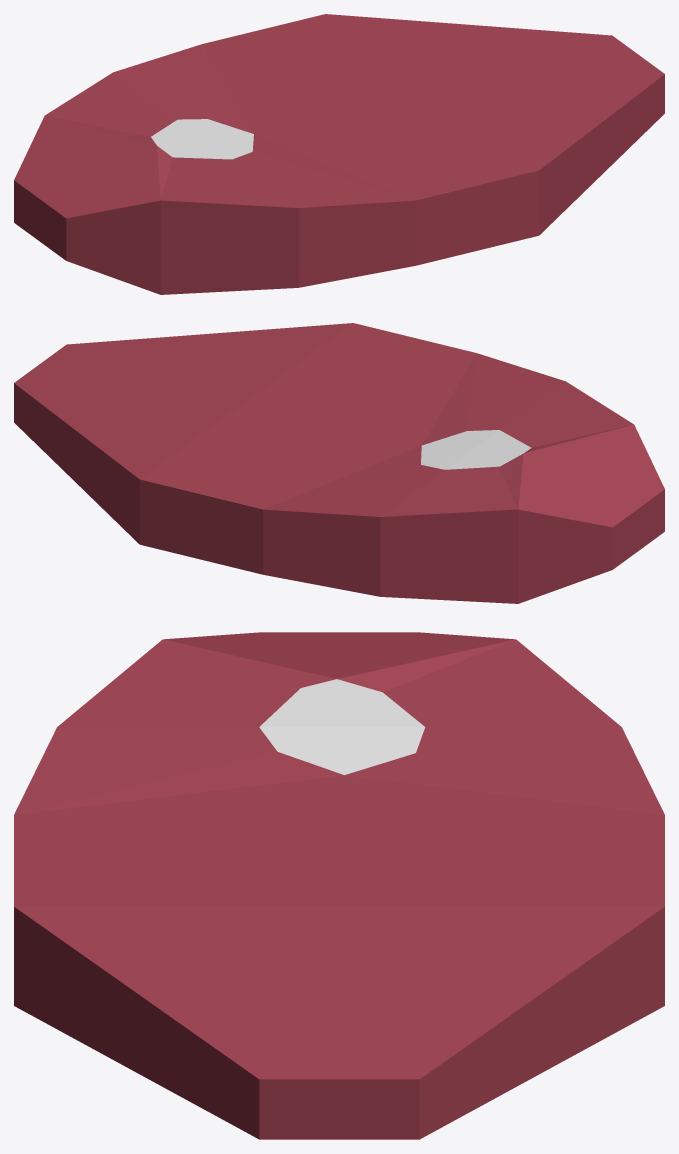
Rendered from Steak.fbx.
3 renders of one model, top to bottom at view 1: azimuth 30°, elevation 25°; view 2: azimuth 150°, elevation 25°; view 3: azimuth 270°, elevation 25°, orthographic. The views are drawn at different scales.
Visible parts, largest first — view 1: Cube; view 2: Cube; view 3: Cube.
Part boxes in pixels (x1,y1,x2,y2): Cube: (14, 14, 664, 294); Cube: (14, 323, 664, 603); Cube: (14, 632, 664, 1139).
Size of the model in its own units: 29.04 by 4.38 by 17.96.
